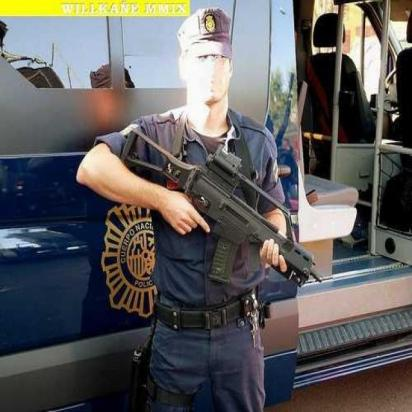Gun: (116, 115, 336, 294)
